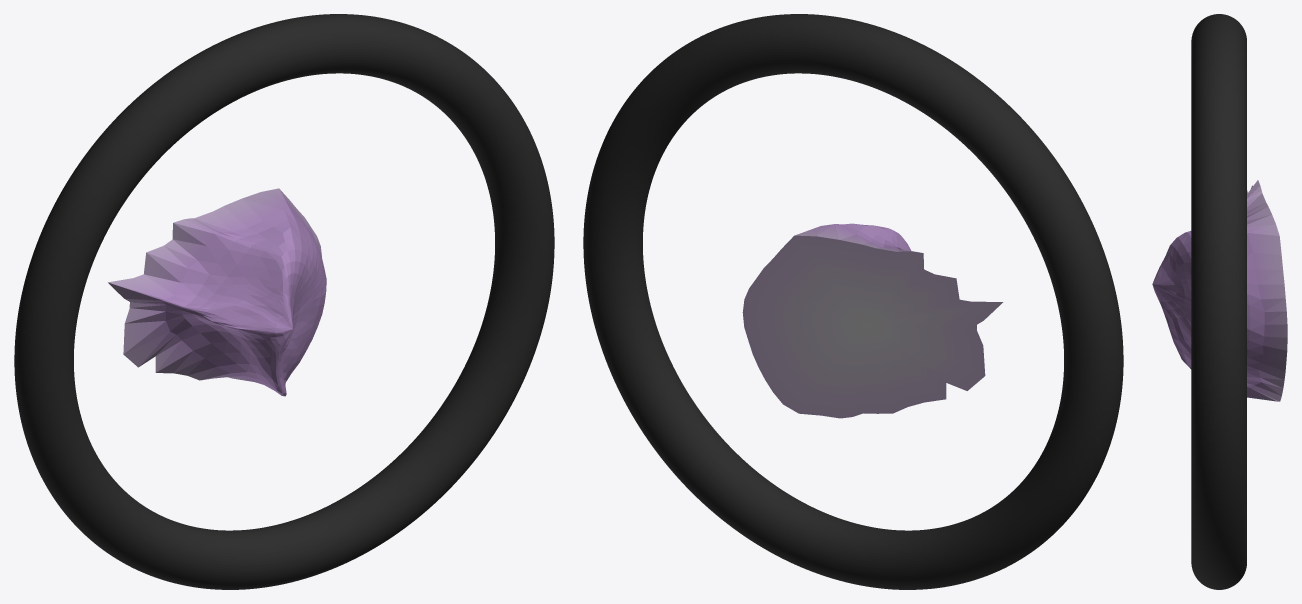
3 renders of one model, left to right at view 1: azimuth 30°, elevation 25°; view 2: azimuth 150°, elevation 25°; view 3: azimuth 270°, elevation 25°, orthographic. The views are drawn at different scales.
Visible parts, largest first — view 1: fixed_CAD_Ring, actual014_body_inferred_base_gray; view 2: fixed_CAD_Ring, actual014_body_inferred_base_gray; view 3: fixed_CAD_Ring, actual014_body_inferred_base_gray.
Boxes of the visible parts, <box> form: fixed_CAD_Ring: <box>14,14,554,589</box>; actual014_body_inferred_base_gray: <box>108,188,326,396</box>; fixed_CAD_Ring: <box>583,14,1123,589</box>; actual014_body_inferred_base_gray: <box>742,223,1003,418</box>; fixed_CAD_Ring: <box>1191,14,1246,589</box>; actual014_body_inferred_base_gray: <box>1152,180,1287,401</box>.
Size of the model in its own units: 0.0124 by 0.0124 by 0.00291.
